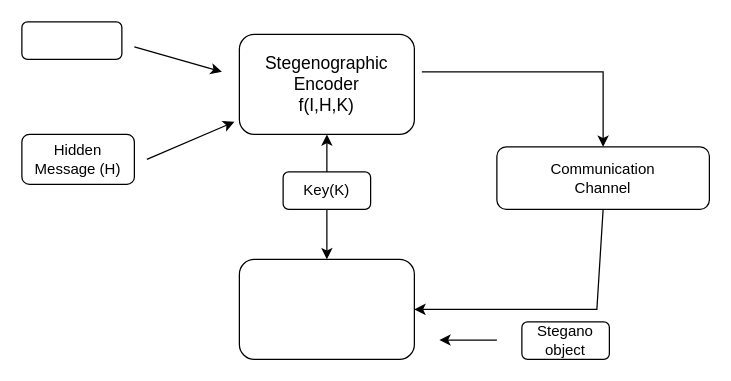
Image size: 731x381. Some labels were removed from this diagram. The shapes that lost their labels are listed below. From the top down, each one's centre as x and y in pixels, then its label:
[71,40]: Image File (I)
[326,308]: Stegenographic Decoder
